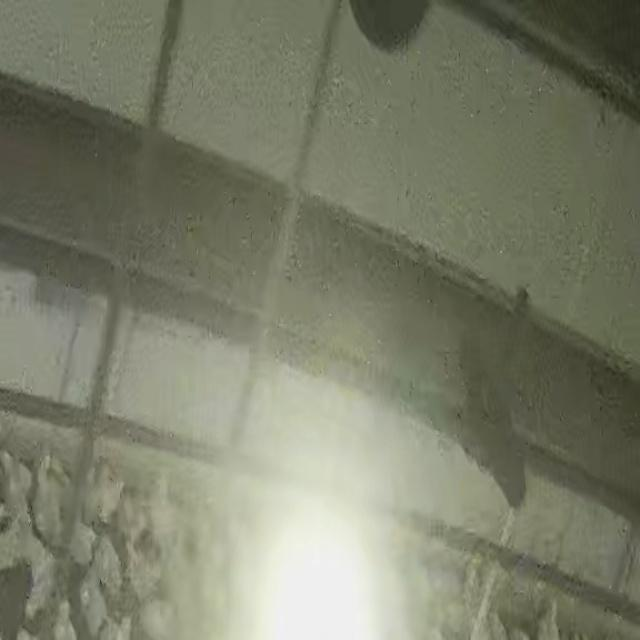chicken: (78, 563, 110, 633), (538, 594, 564, 640), (53, 602, 73, 640)
